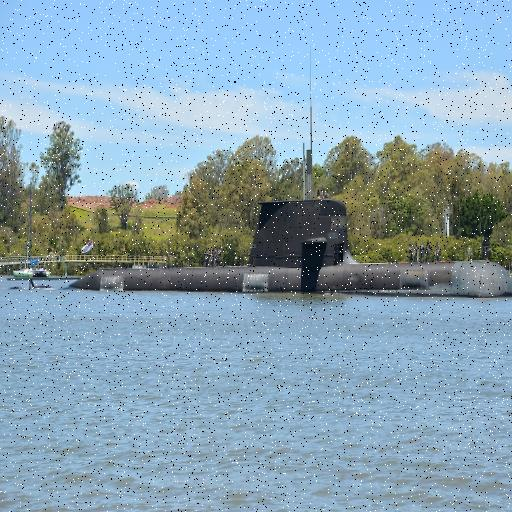submarine: (23, 197, 512, 289)
